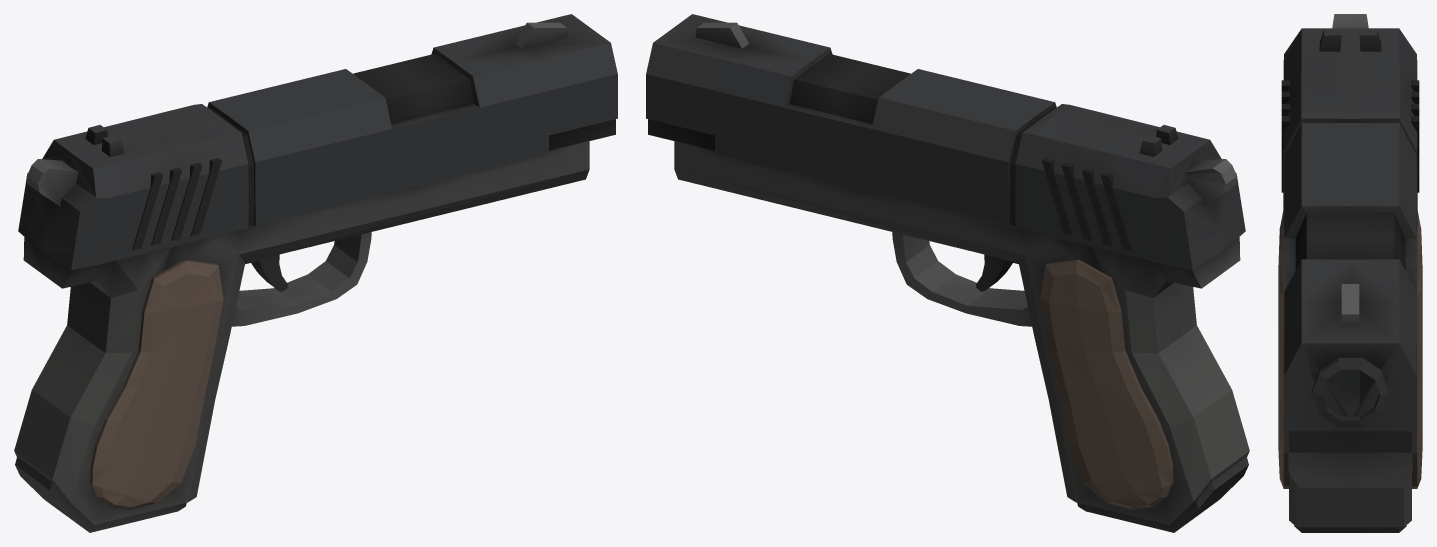
The model's file is q-pistol-1.glb.
3 renders of one model, left to right at view 1: azimuth 30°, elevation 25°; view 2: azimuth 150°, elevation 25°; view 3: azimuth 270°, elevation 25°, orthographic. The views are drawn at different scales.
Parts seen in each view (by area): view 1: slide, frame; view 2: slide, frame; view 3: slide, frame, barrel.
Boxes of the visible parts, x1=… form: slide: x1=18, y1=14, x2=617, y2=269; frame: x1=14, y1=141, x2=589, y2=532; slide: x1=646, y1=14, x2=1245, y2=269; frame: x1=674, y1=141, x2=1249, y2=532; slide: x1=1281, y1=14, x2=1419, y2=452; frame: x1=1278, y1=211, x2=1422, y2=532; barrel: x1=1311, y1=357, x2=1389, y2=427.
Size of the model in its own units: 0.22 by 0.1405 by 0.0391.
